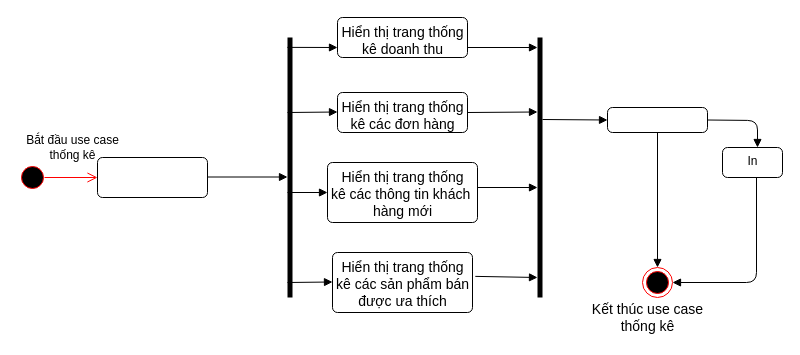
This 800x355 diagram has some shape labels left out. The centre of each missing label's shape, as x and y in pixels:
"Hiển thị trang chủ" belongs at (x=152, y=177).
"Xuất thành file" belongs at (x=657, y=119).
